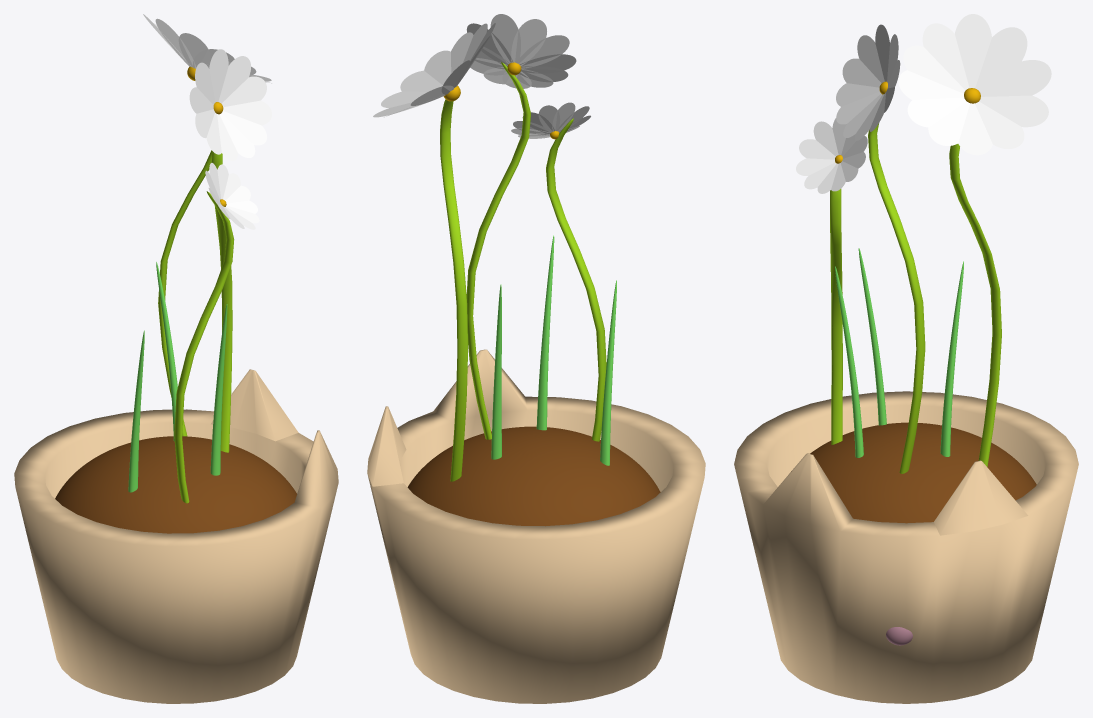
File: PrimaveraX.fbx
3 renders of one model, left to right at view 1: azimuth 30°, elevation 25°; view 2: azimuth 150°, elevation 25°; view 3: azimuth 270°, elevation 25°, orthographic. The views are drawn at different scales.
Parts seen in each view (by area): view 1: Circle.001, Sphere.002, Cube.004, Cube.020, Cube.011, Cube.030, Cube.027, Cube.029, Cube.002, Cube.003, Cube.001; view 2: Circle.001, Sphere.002, Cube.004, Cube.029, Cube.027, Cube.011, Cube.020, Cube.030, Cube.002, Cube.003, Cube.001; view 3: Circle.001, Cube.027, Sphere.002, Cube.004, Cube.030, Cube.011, Cube.029, Cube.020, Cube.001, Cube.002, Cube.003.
Boxes of the visible parts, left/top/right/bottom form: Circle.001: left=14, top=369, right=338, bottom=703; Sphere.002: left=55, top=436, right=296, bottom=533; Cube.004: left=189, top=49, right=271, bottom=161; Cube.020: left=174, top=191, right=234, bottom=503; Cube.011: left=212, top=151, right=232, bottom=452; Cube.030: left=205, top=163, right=259, bottom=229; Cube.027: left=143, top=14, right=271, bottom=83; Cube.029: left=158, top=150, right=212, bottom=436; Cube.002: left=210, top=304, right=227, bottom=475; Cube.003: left=128, top=330, right=144, bottom=492; Cube.001: left=156, top=262, right=177, bottom=441; Circle.001: left=367, top=349, right=705, bottom=703; Sphere.002: left=407, top=426, right=660, bottom=526; Cube.004: left=466, top=14, right=576, bottom=88; Cube.029: left=440, top=99, right=467, bottom=481; Cube.027: left=373, top=23, right=495, bottom=117; Cube.011: left=466, top=62, right=530, bottom=439; Cube.020: left=546, top=118, right=606, bottom=441; Cube.030: left=511, top=102, right=590, bottom=139; Cube.002: left=536, top=235, right=554, bottom=430; Cube.003: left=600, top=280, right=616, bottom=465; Cube.001: left=491, top=284, right=501, bottom=459; Circle.001: left=734, top=391, right=1078, bottom=703; Cube.027: left=898, top=14, right=1051, bottom=155; Sphere.002: left=791, top=422, right=1036, bottom=523; Cube.004: left=836, top=24, right=900, bottom=140; Cube.030: left=796, top=118, right=867, bottom=193; Cube.011: left=868, top=123, right=925, bottom=473; Cube.029: left=949, top=144, right=1001, bottom=466; Cube.020: left=830, top=189, right=842, bottom=444; Cube.001: left=940, top=261, right=963, bottom=456; Cube.002: left=835, top=266, right=863, bottom=457; Cube.003: left=858, top=248, right=886, bottom=425.
Bounding box in the file's own units: 45.4 × 93.5 × 45.4.
